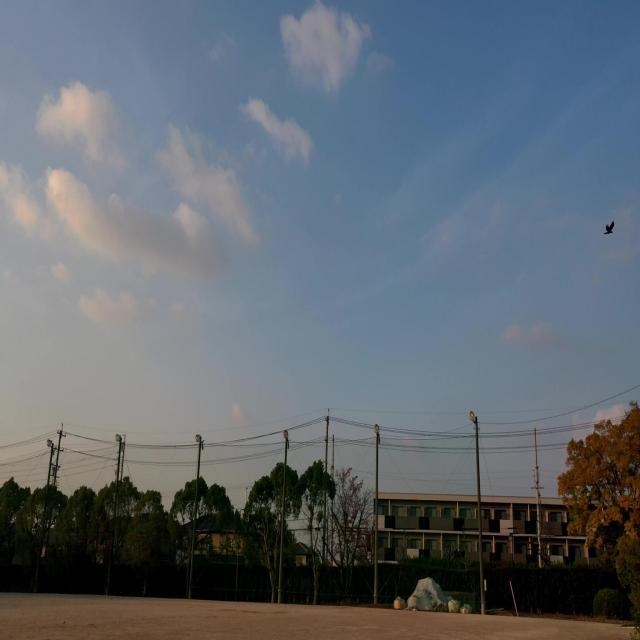Birds: (598, 206, 622, 251)
